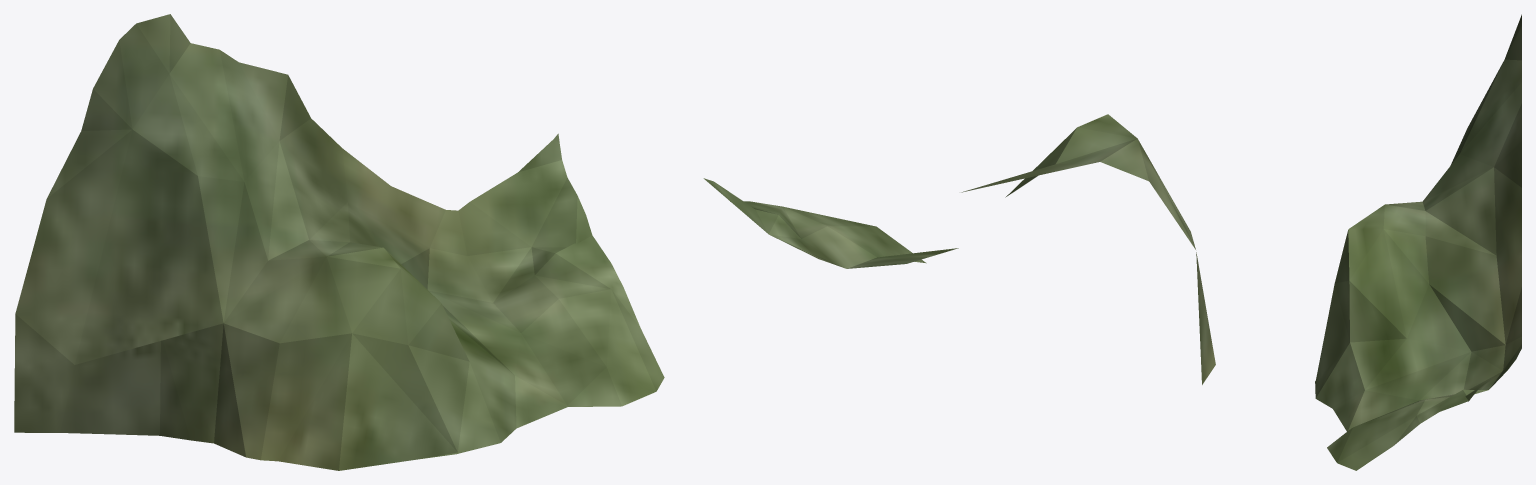
The picture shows the model from 3 angles, left to right: view 1: azimuth 30°, elevation 25°; view 2: azimuth 150°, elevation 25°; view 3: azimuth 270°, elevation 25°; orthographic projection. The views are drawn at different scales.
Size of the model in its own units: 1.01 by 0.6763 by 0.427.
Materials: 1 (1 with a texture image).
